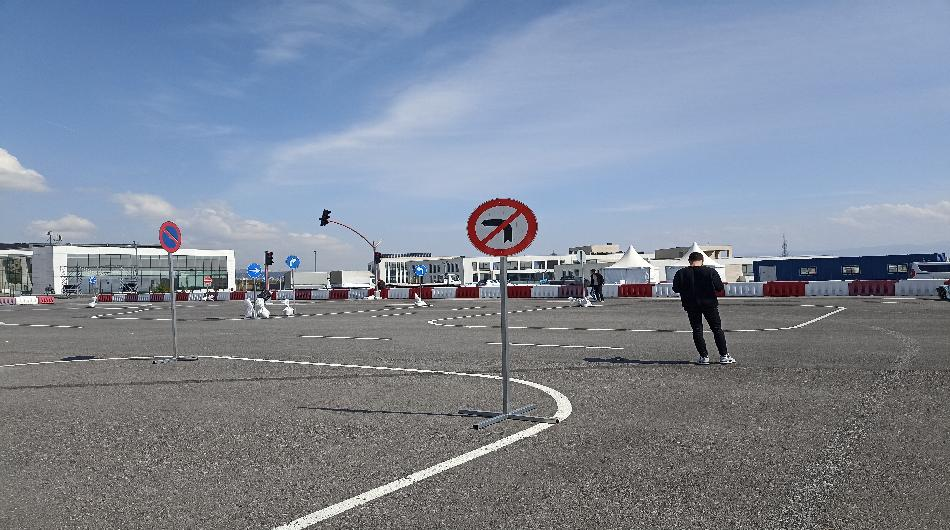park_yapilmaz_1: (157, 218, 183, 254)
sola_donulmez: (464, 198, 539, 255)
